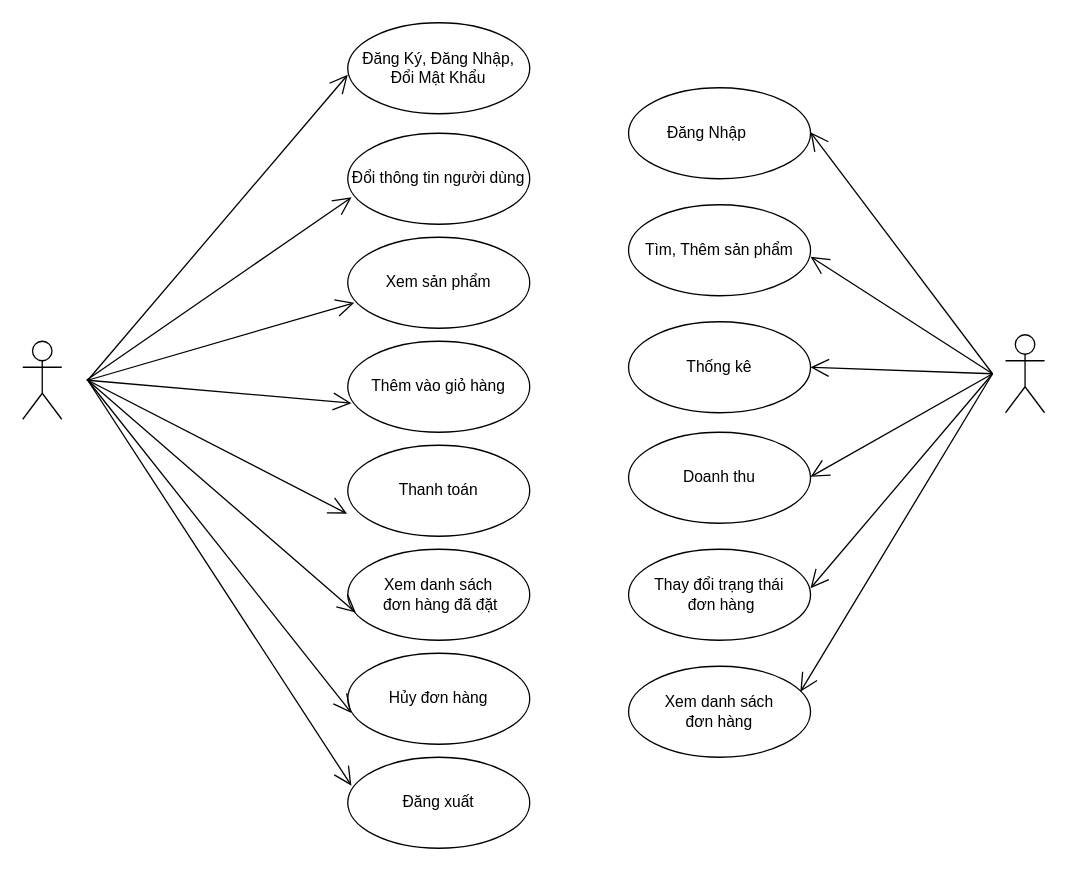
Some shapes in this 1070 by 871 pixel diagram are drawn without their labels. The centre of each missing label's shape, as x and y in pixels:
"Admin" goes at point 1024,373.
"User" goes at point 41,379.
